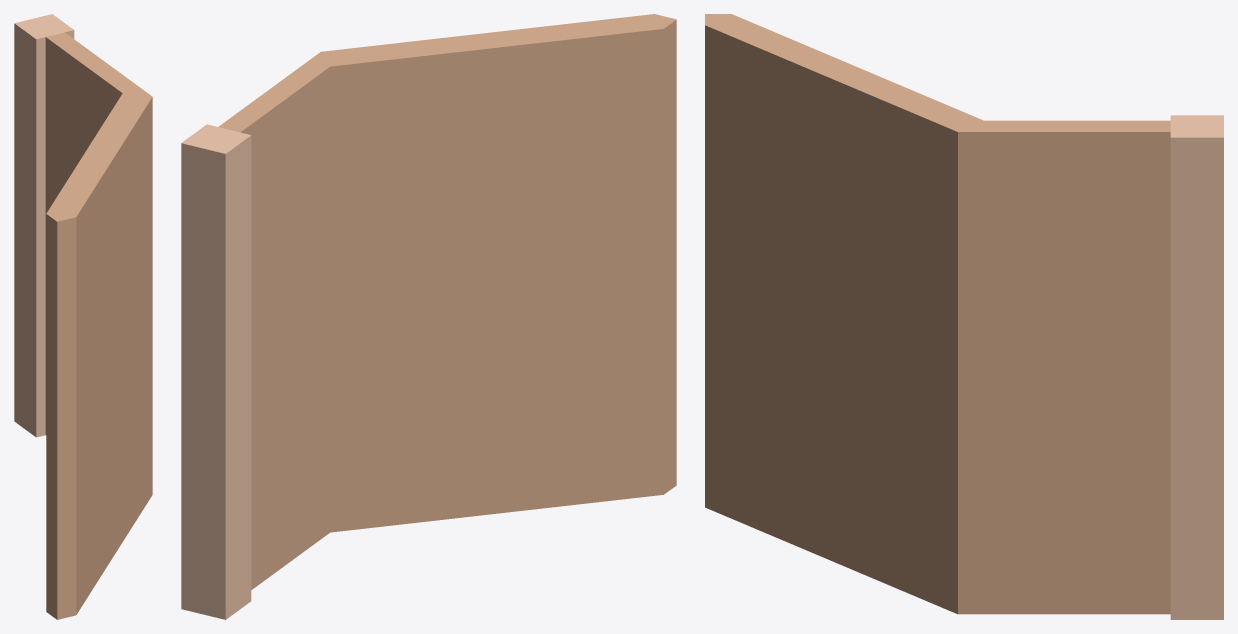
3 views of the same model, side by side, from view 1: azimuth 30°, elevation 25°; view 2: azimuth 150°, elevation 25°; view 3: azimuth 270°, elevation 25° (orthographic). The views are drawn at different scales.
Parts seen in each view (by area): view 1: wallWoodCornerDiagonalHalf; view 2: wallWoodCornerDiagonalHalf; view 3: wallWoodCornerDiagonalHalf.
Boxes of the visible parts, bbox=[...] form: wallWoodCornerDiagonalHalf: bbox=[14, 14, 152, 619]; wallWoodCornerDiagonalHalf: bbox=[181, 14, 676, 619]; wallWoodCornerDiagonalHalf: bbox=[705, 14, 1223, 619].
Size of the model in its own units: 0.55 by 1 by 0.975.
